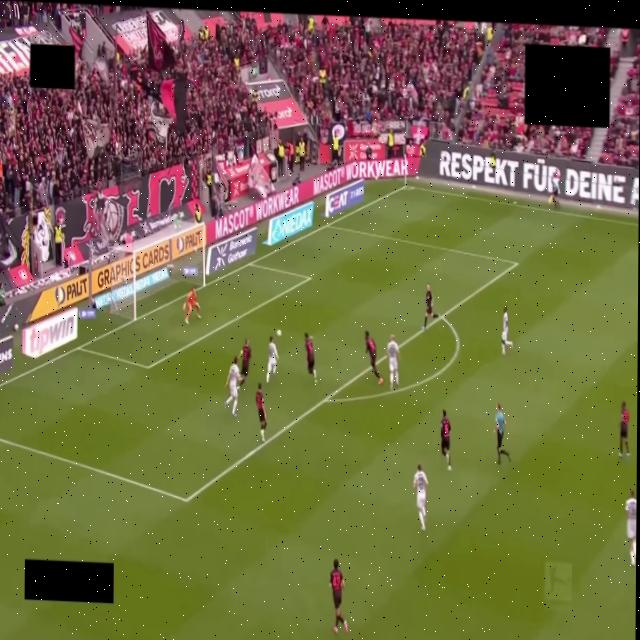ball: (277, 330, 281, 336)
player: (330, 559, 347, 633), (365, 331, 383, 384), (414, 465, 428, 530), (225, 357, 239, 417), (625, 491, 636, 566), (423, 283, 438, 330), (387, 335, 400, 389), (183, 289, 201, 323), (441, 410, 451, 470), (256, 383, 266, 442), (619, 402, 629, 458), (502, 307, 513, 355), (305, 334, 316, 381), (266, 337, 277, 382)
referee: (495, 404, 510, 463)
